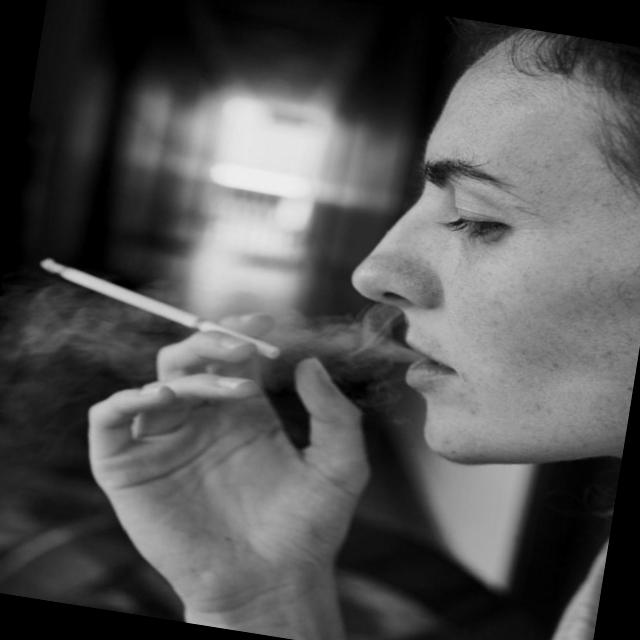cigarette: (18, 248, 304, 372)
